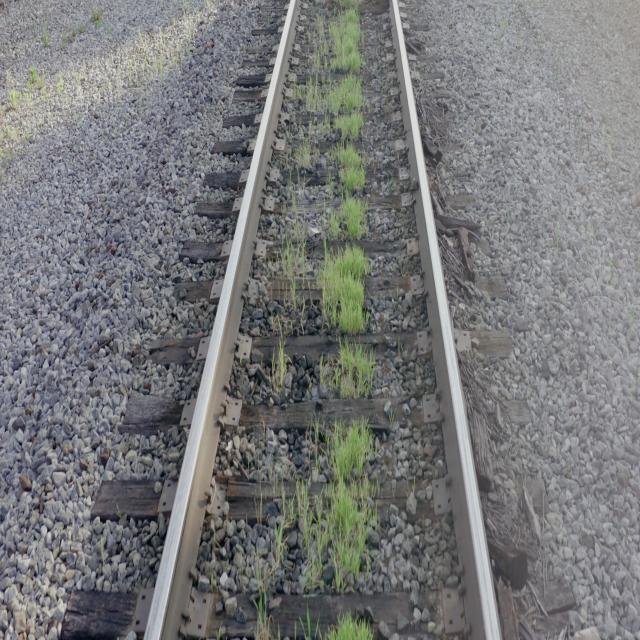Plant: (289, 4, 375, 398), (298, 422, 372, 593), (325, 611, 374, 640), (330, 616, 370, 638), (256, 593, 271, 638), (282, 240, 306, 267), (278, 340, 288, 373)
